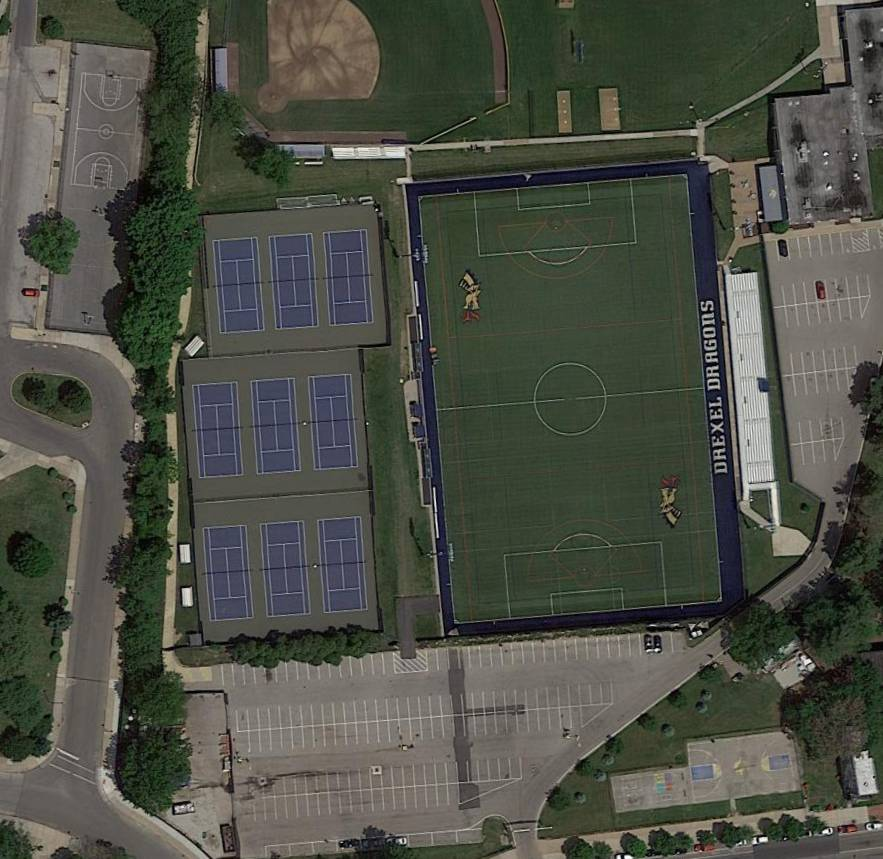baseball diamond: (268, 1, 381, 99)
basketball court: (70, 71, 146, 191), (686, 731, 801, 806)
soccer ball field: (417, 172, 724, 625)
tennis court: (211, 236, 267, 335), (259, 519, 312, 620), (249, 377, 303, 476), (191, 380, 245, 479), (202, 523, 255, 623), (316, 515, 369, 614), (307, 373, 360, 472), (268, 232, 321, 331), (322, 228, 374, 328)
